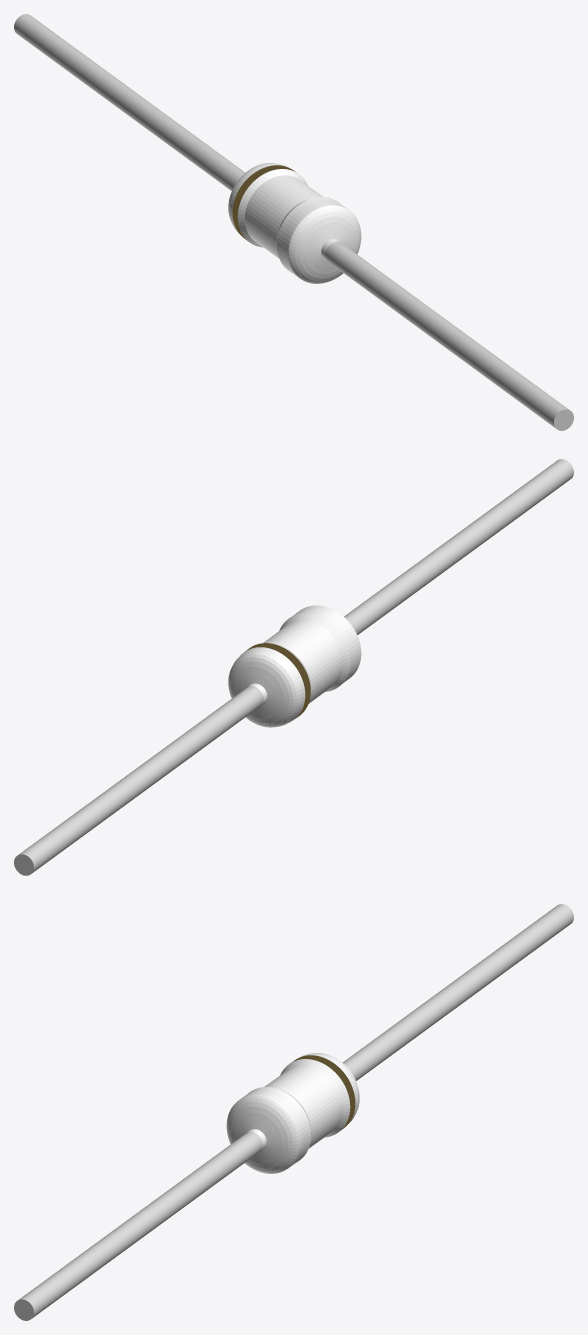
File: resistor_220.glb
3 renders of one model, top to bottom at view 1: azimuth 30°, elevation 25°; view 2: azimuth 150°, elevation 25°; view 3: azimuth 330°, elevation 25°, orthographic.
Parts seen in each view (by area): view 1: legs, Resistor; view 2: legs, Resistor; view 3: legs, Resistor.
Boxes of the visible parts, x1=… form: legs: x1=14, y1=14, x2=573, y2=430; Resistor: x1=228, y1=163, x2=361, y2=283; legs: x1=14, y1=459, x2=573, y2=875; Resistor: x1=228, y1=605, x2=361, y2=727; legs: x1=14, y1=904, x2=573, y2=1320; Resistor: x1=226, y1=1053, x2=359, y2=1173.
Bounding box in the file's own units: 0.0044 × 0.00442 × 0.056.
